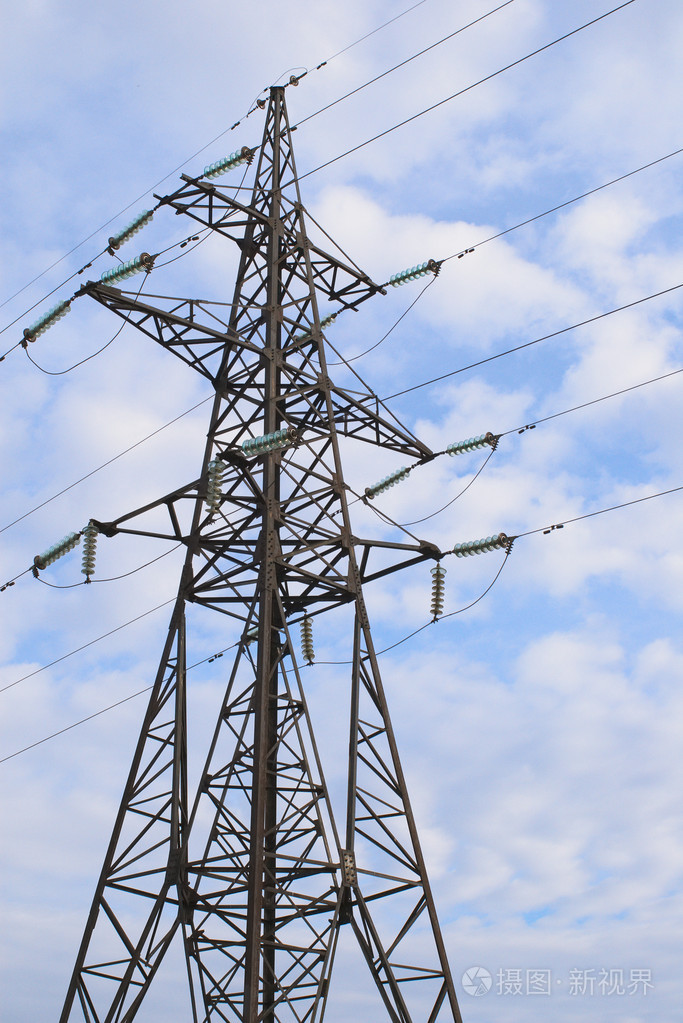insulator: (28, 295, 70, 342), (237, 429, 298, 456), (452, 531, 510, 558), (39, 529, 80, 566), (202, 459, 227, 517), (115, 209, 154, 245), (447, 432, 491, 461), (104, 255, 151, 282), (79, 521, 102, 576), (368, 464, 410, 494), (295, 617, 319, 664), (425, 566, 448, 614), (389, 264, 428, 288), (207, 148, 242, 174)
